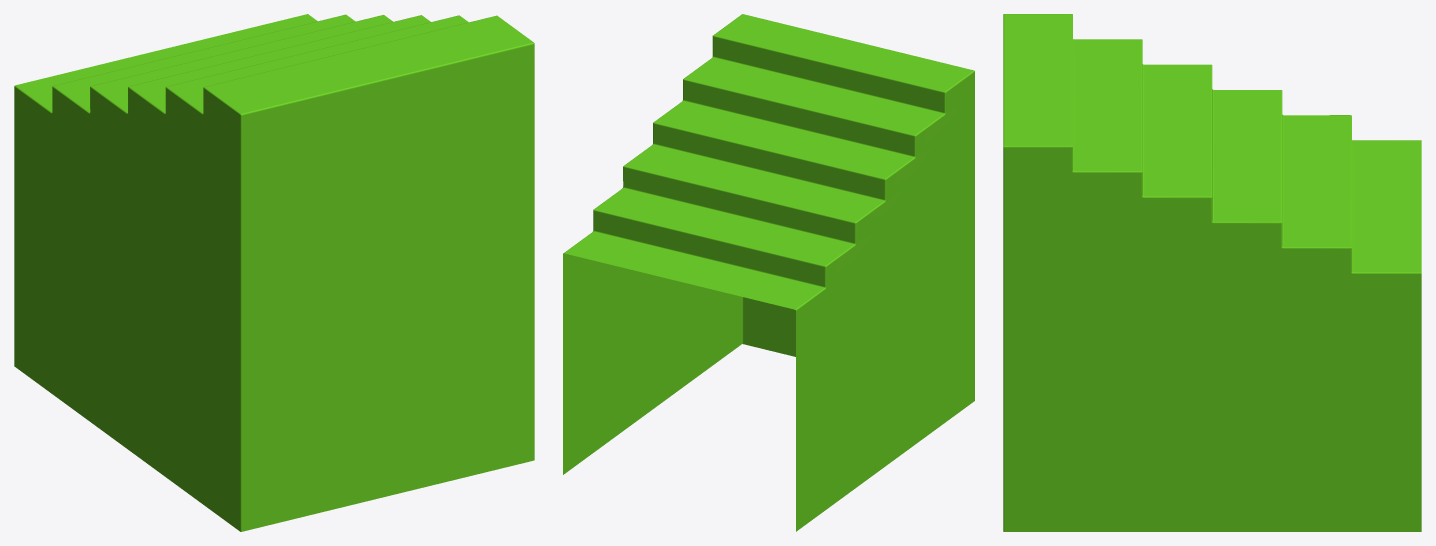
The model's file is Stairs.fbx.
3 renders of one model, left to right at view 1: azimuth 30°, elevation 25°; view 2: azimuth 150°, elevation 25°; view 3: azimuth 270°, elevation 25°, orthographic. The views are drawn at different scales.
Parts seen in each view (by area): view 1: Stairs; view 2: Stairs; view 3: Stairs.
Part boxes in pixels (x1=…): Stairs: x1=14, y1=14, x2=534, y2=531; Stairs: x1=563, y1=14, x2=974, y2=531; Stairs: x1=1003, y1=14, x2=1421, y2=531.
Bounding box in the file's own units: 4.5 × 6.1 × 6.
